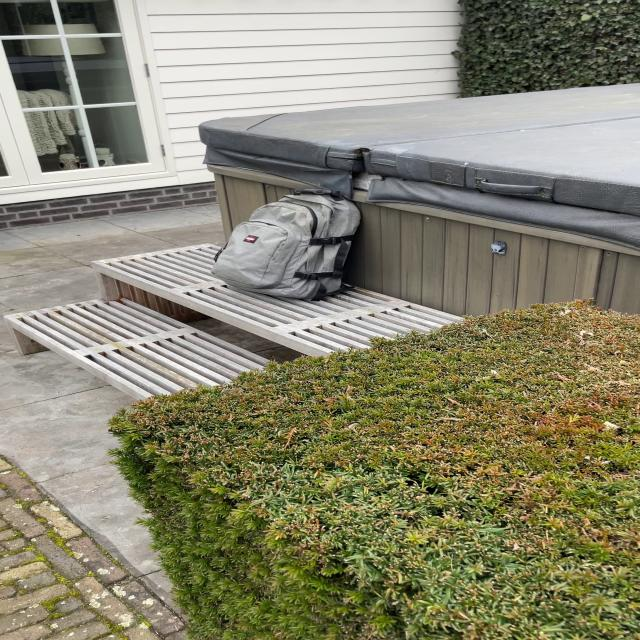backpack: (208, 184, 370, 302)
